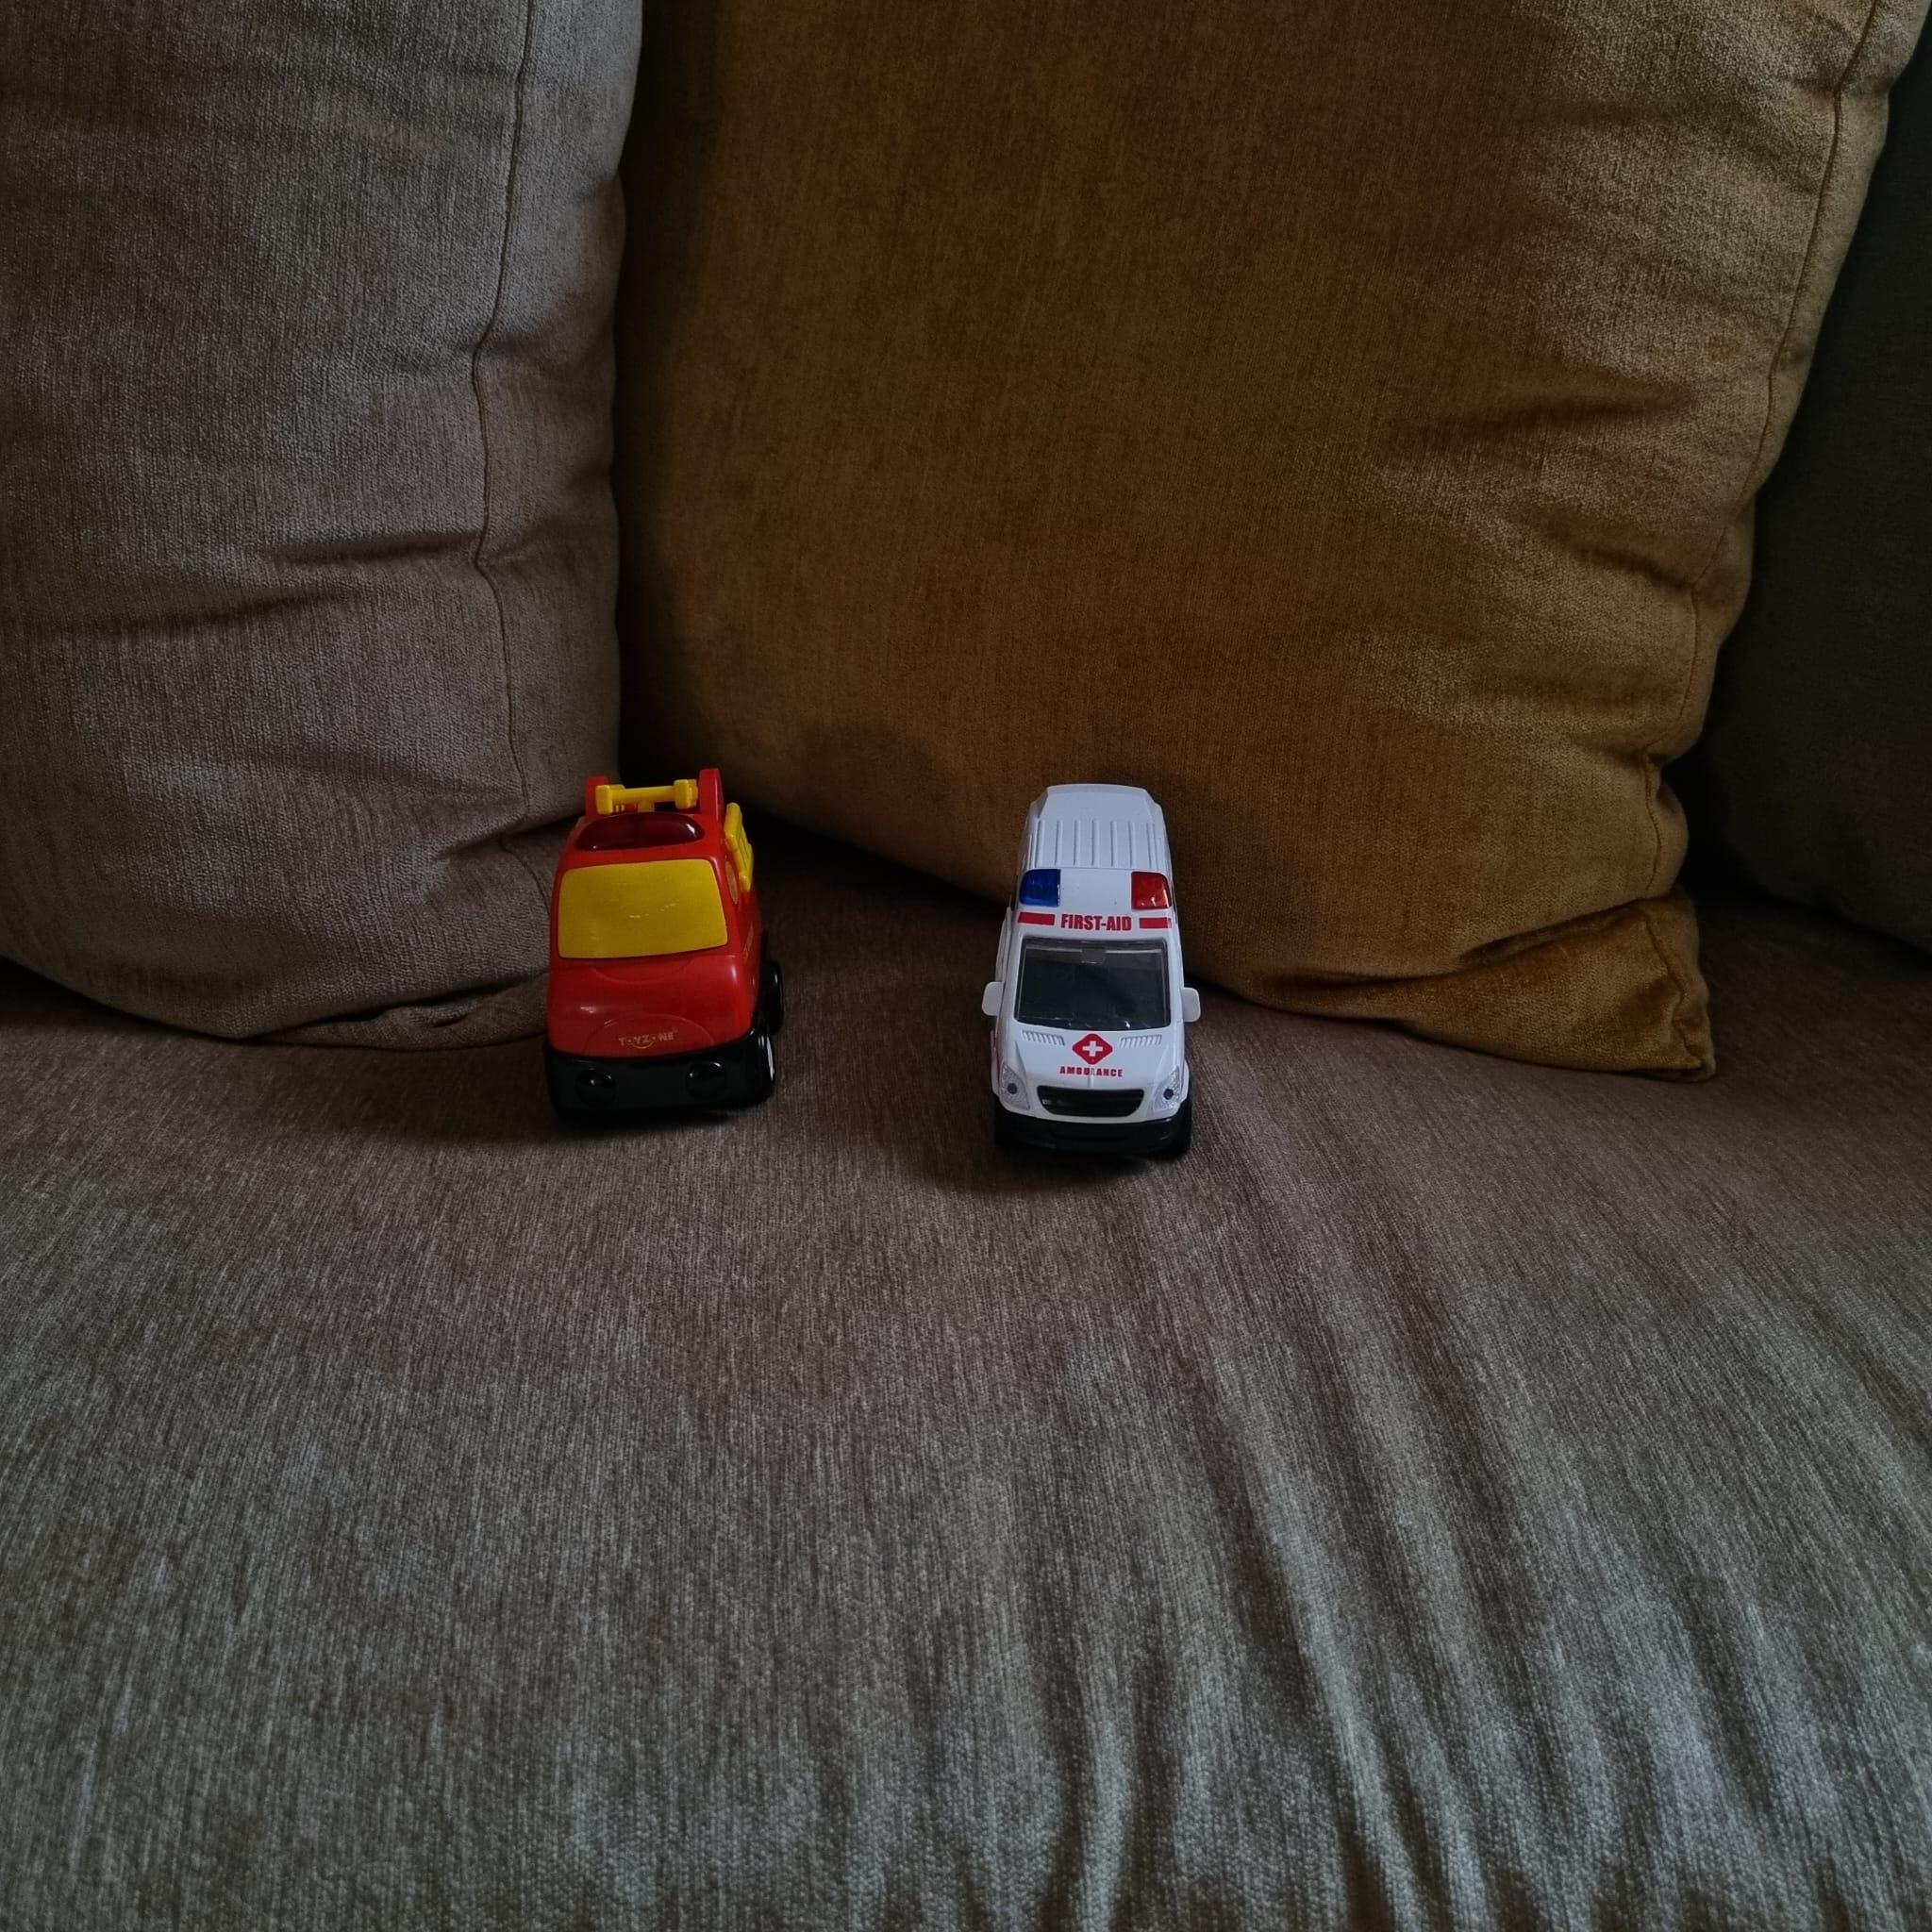ambulance_off: (977, 775, 1203, 1168)
firetruck_off: (529, 764, 800, 1127)
